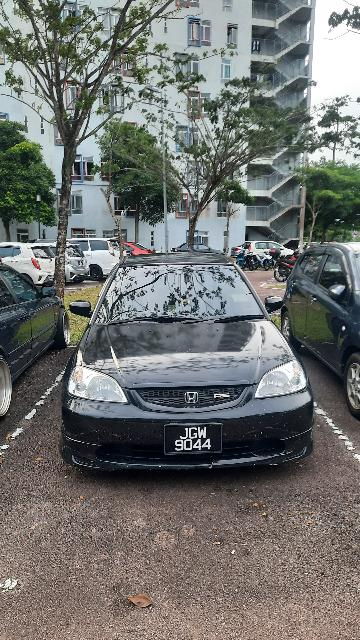License_Plate: (162, 422, 223, 455)
car: (59, 255, 318, 471)
